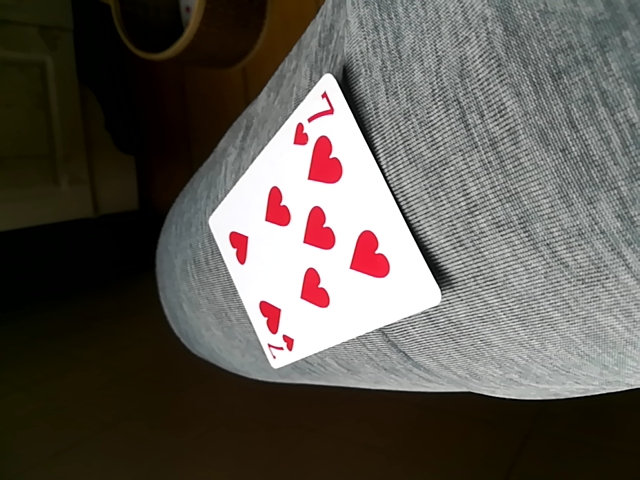hx 7: (207, 73, 441, 377)
